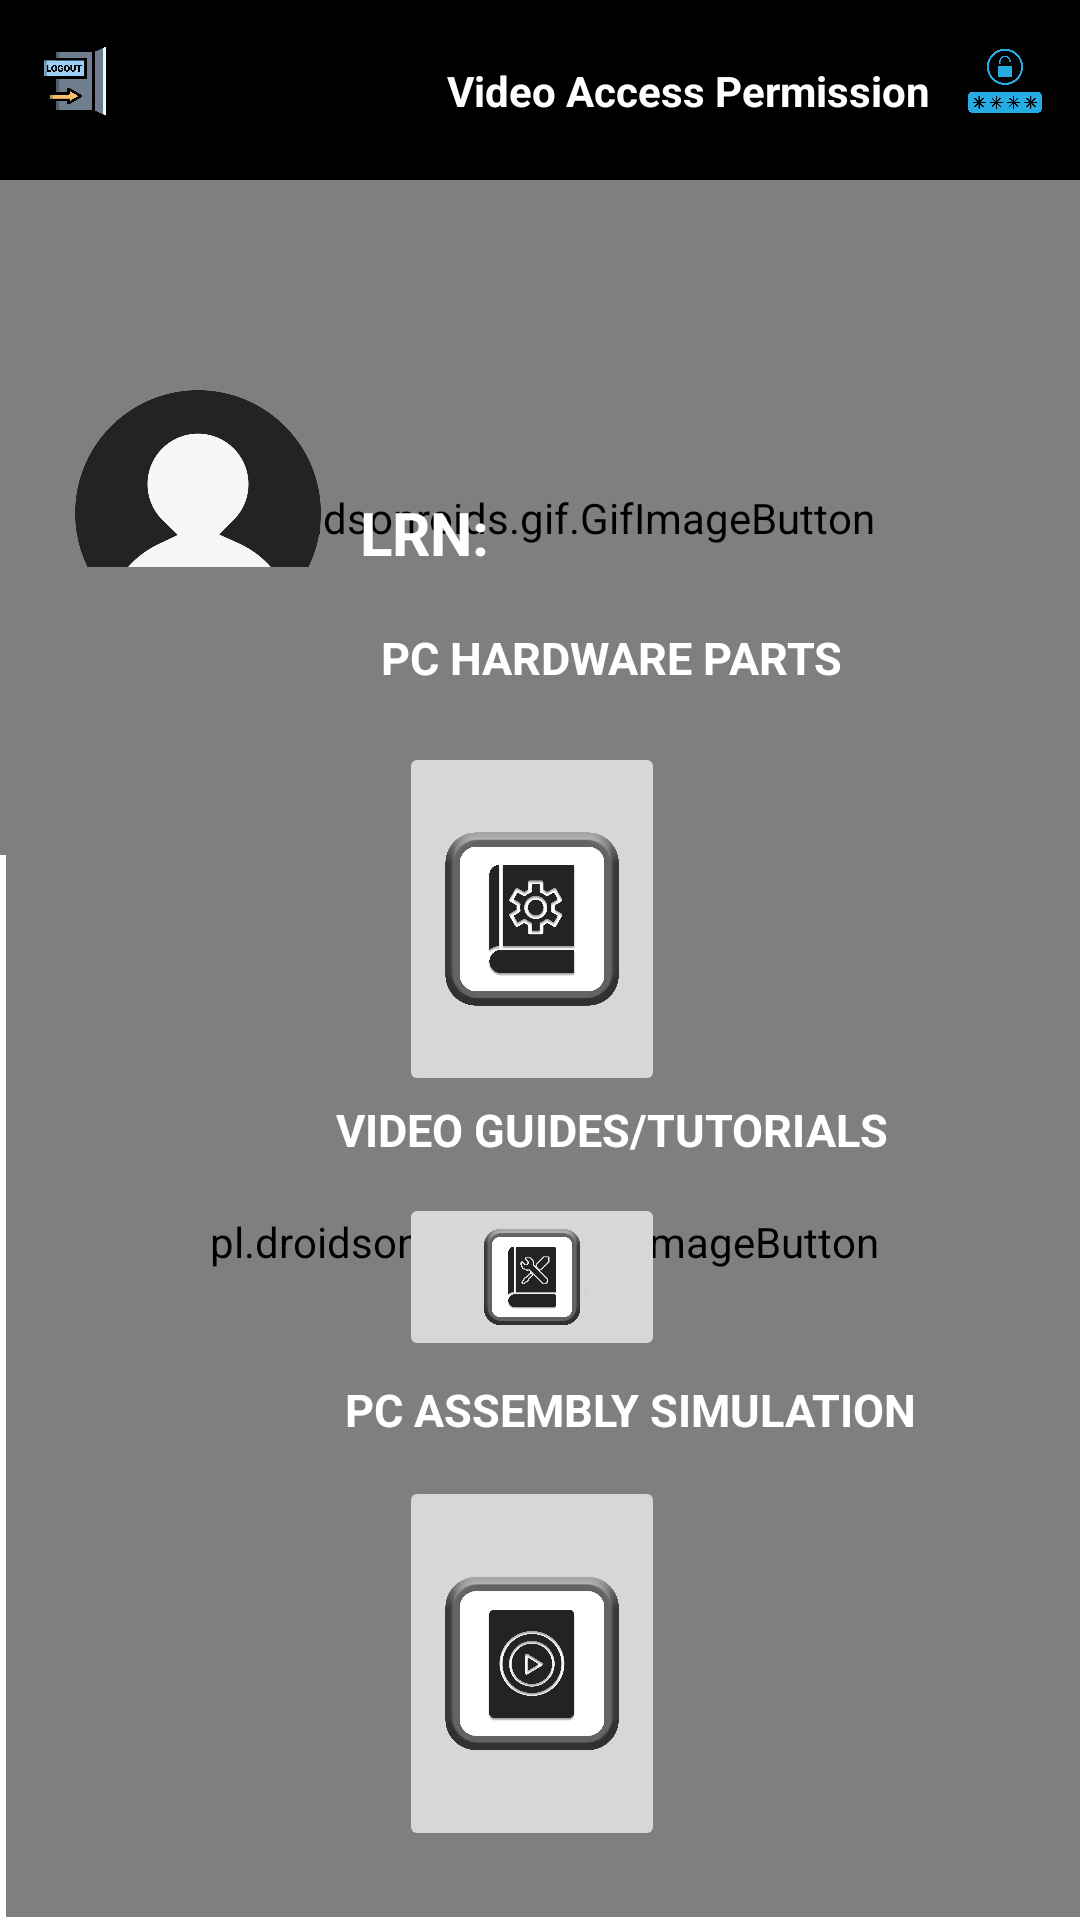

Icon bounding boxes for this 1080w x 1920h phone screenshot, format (x1, y1, x2, y2):
profile: (75, 390, 344, 567)
